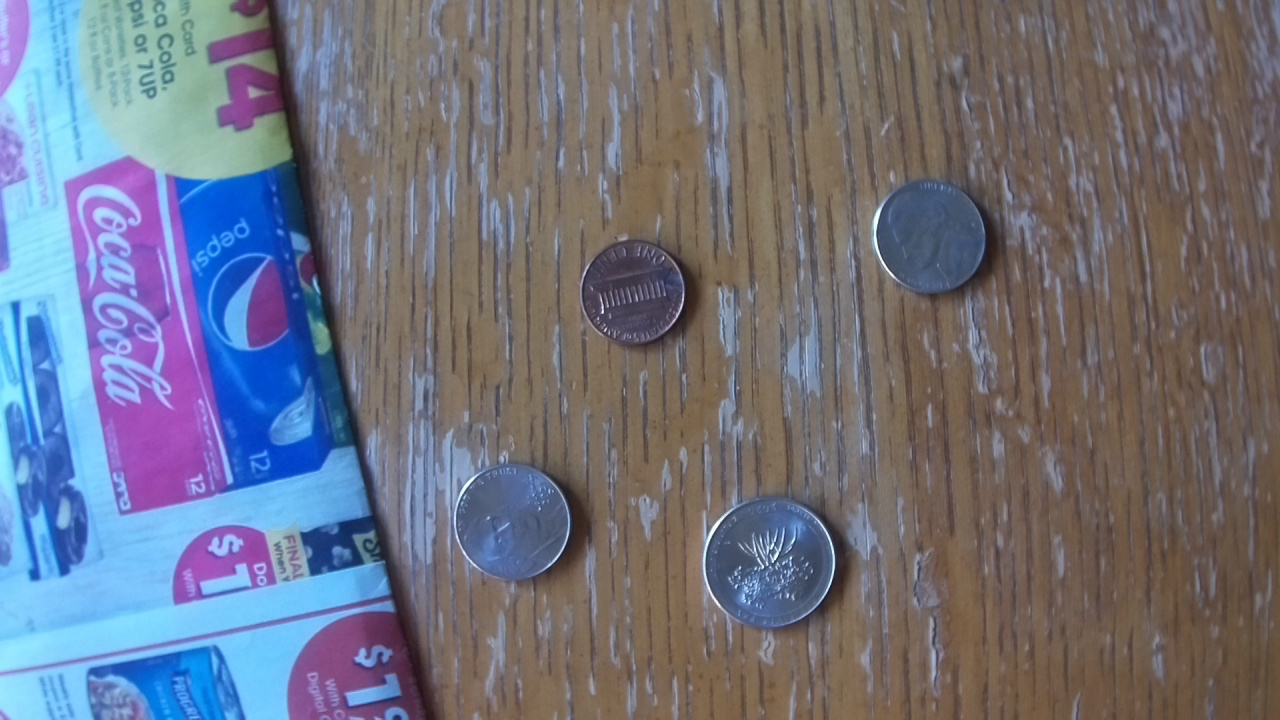nickel: (450, 460, 576, 586), (867, 178, 989, 300)
penny: (574, 236, 696, 350)
quarter: (696, 489, 846, 637)
